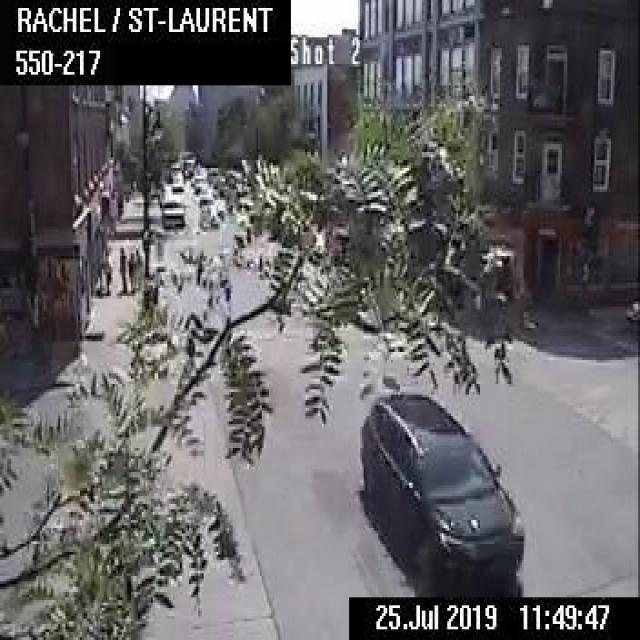pedestrian: (134, 242, 144, 291), (118, 245, 126, 292), (127, 250, 135, 290)
vehicle: (357, 386, 526, 594), (159, 194, 183, 229), (197, 191, 214, 215), (170, 177, 183, 190)
